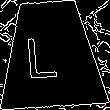L_N: (33, 28, 69, 81)
